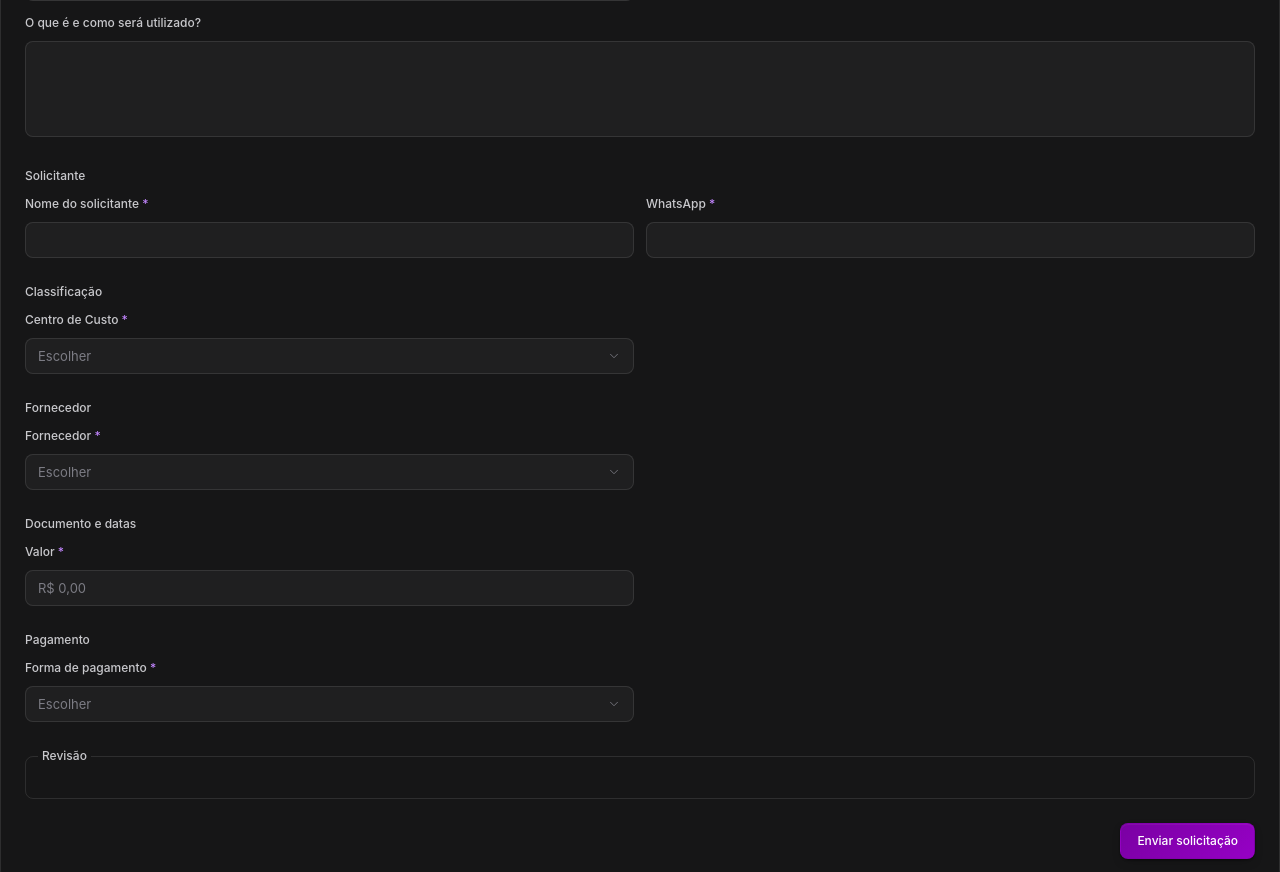
it: FormularioPublico — o Formulário como dado (checklist 1.2–1.4) › (o) a ajuda é a da pergunta
(page scrolled)
What coordinates should you click on to do the following:
click the dropdown named "Forma de pagamento"
I would click on:
 (65, 704)
Its box is [25,686,634,722].
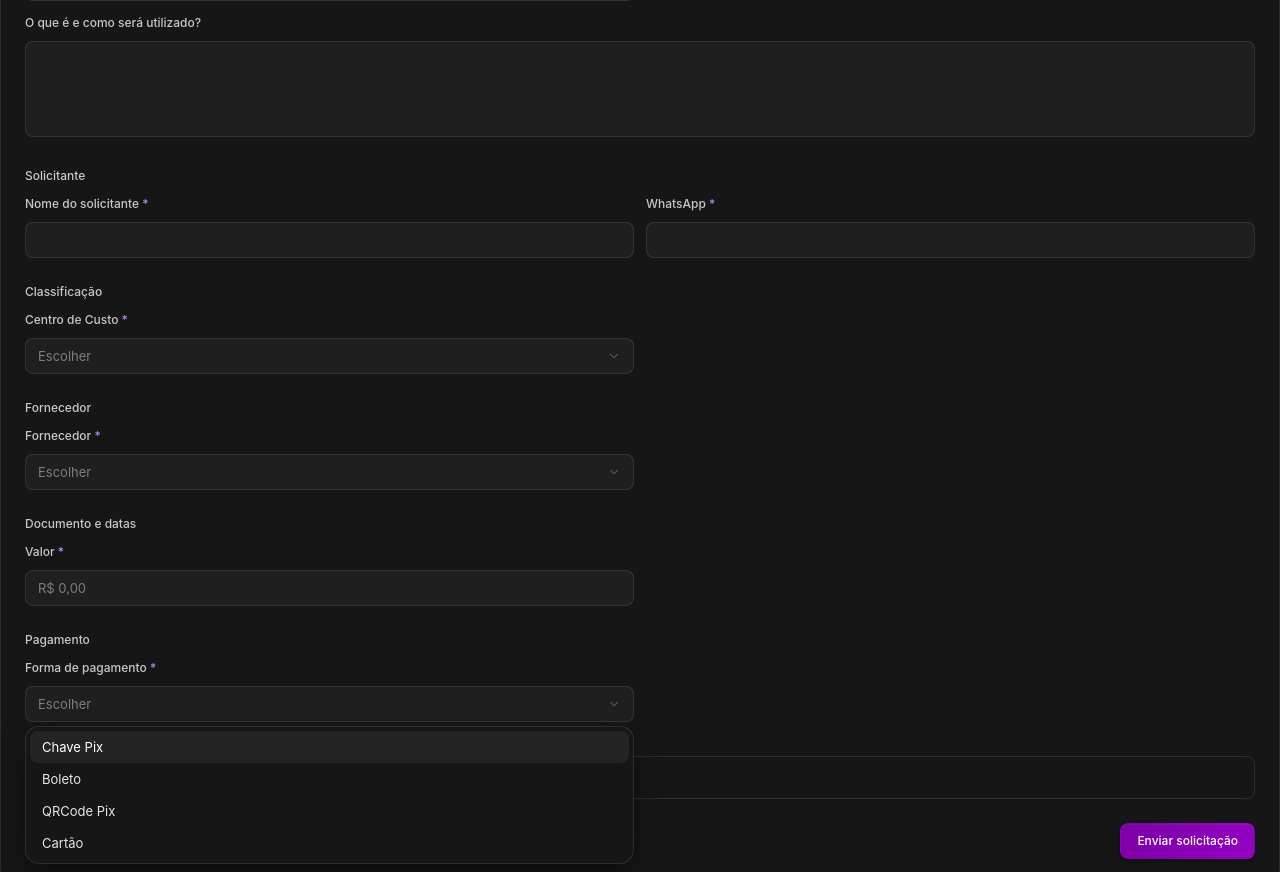
What coordinates should you click on to do the following:
click the option "Chave Pix"
I would click on:
 (73, 747)
Its box is [30,731,629,763].
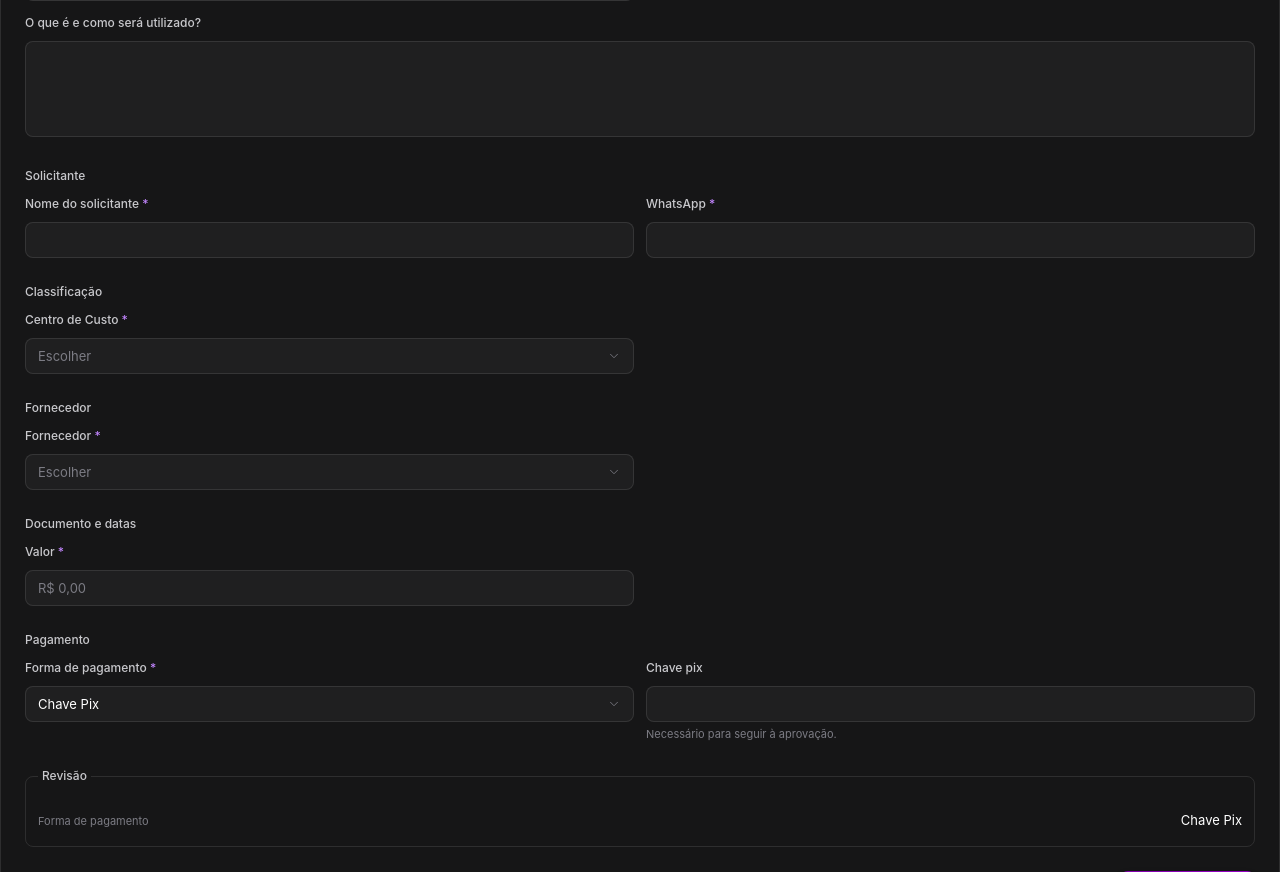
Result: the text "Necessário para seguir à aprovação." is shown at [646,727,837,741]
